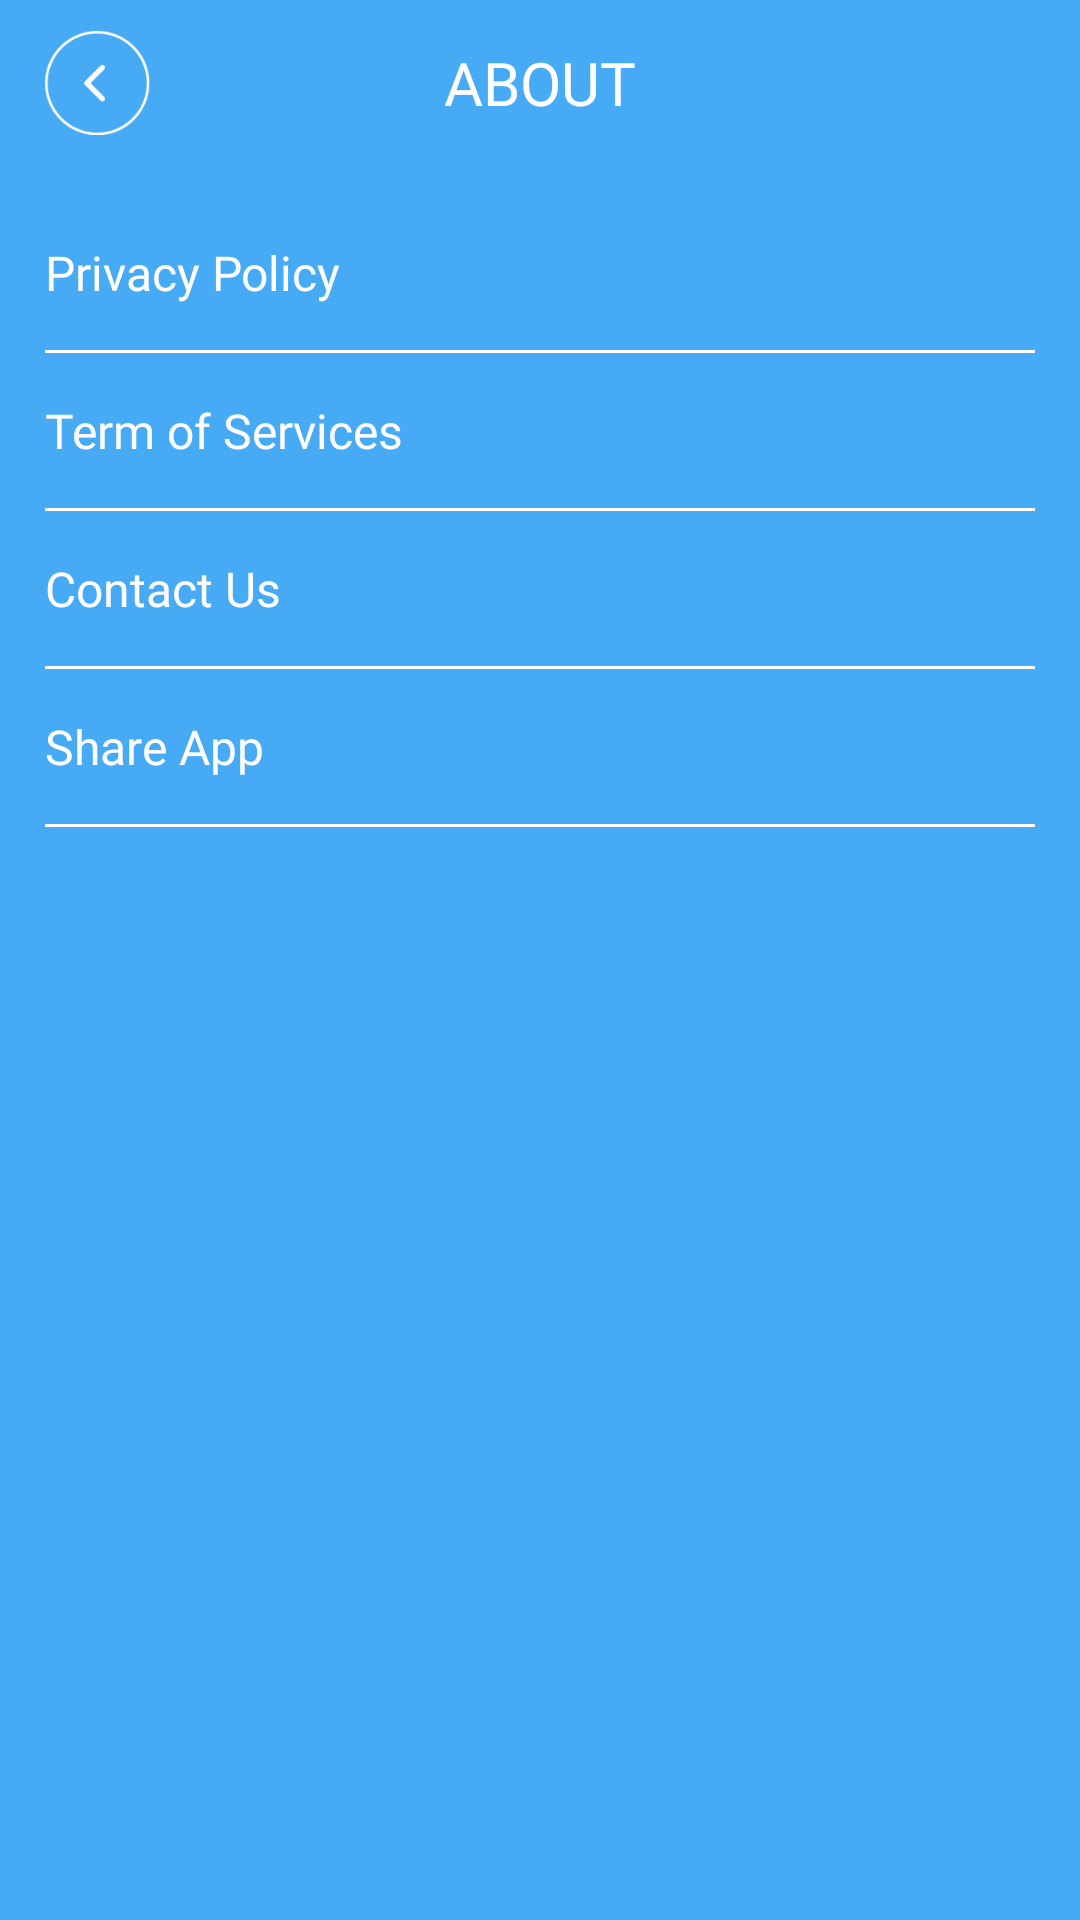

Icon click points for this 1080 x 1920 phone screenshot, format [x,y]:
back: [97,83]
